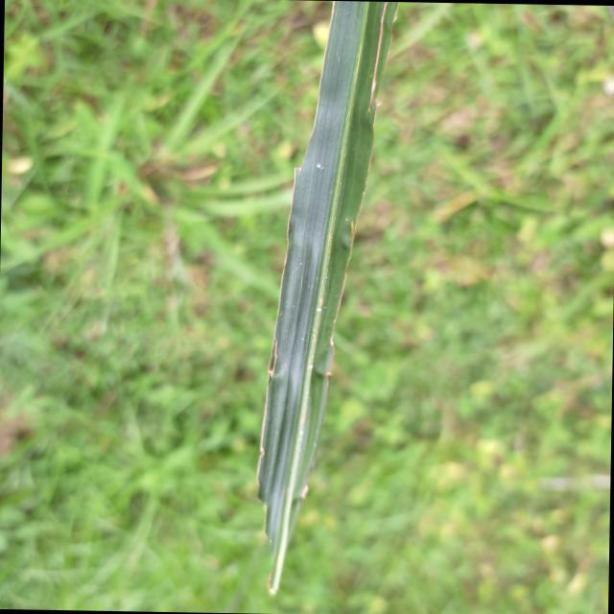Boron: (254, 0, 398, 595)
